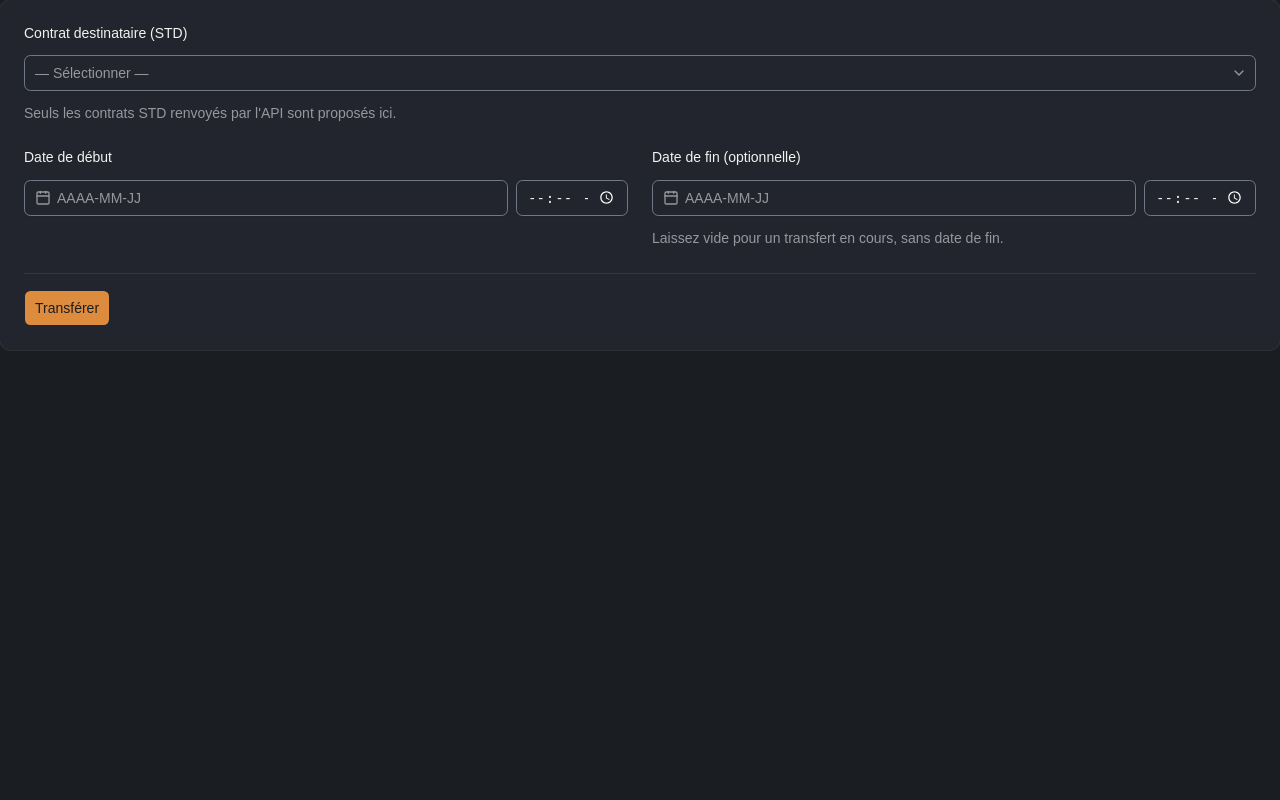
Test: TransferForm (KAN-169 FR14-FR17) › treats an omitted end date as open-ended and submits the transfer (FR15, FR17)
The image size is (1280, 800).
Expected: the form with test id "transfer-form" is shown, [24,24,1256,326]
Click the dropdown with test id "transfer-field-target" at (92, 73), box [24,55,1256,91]
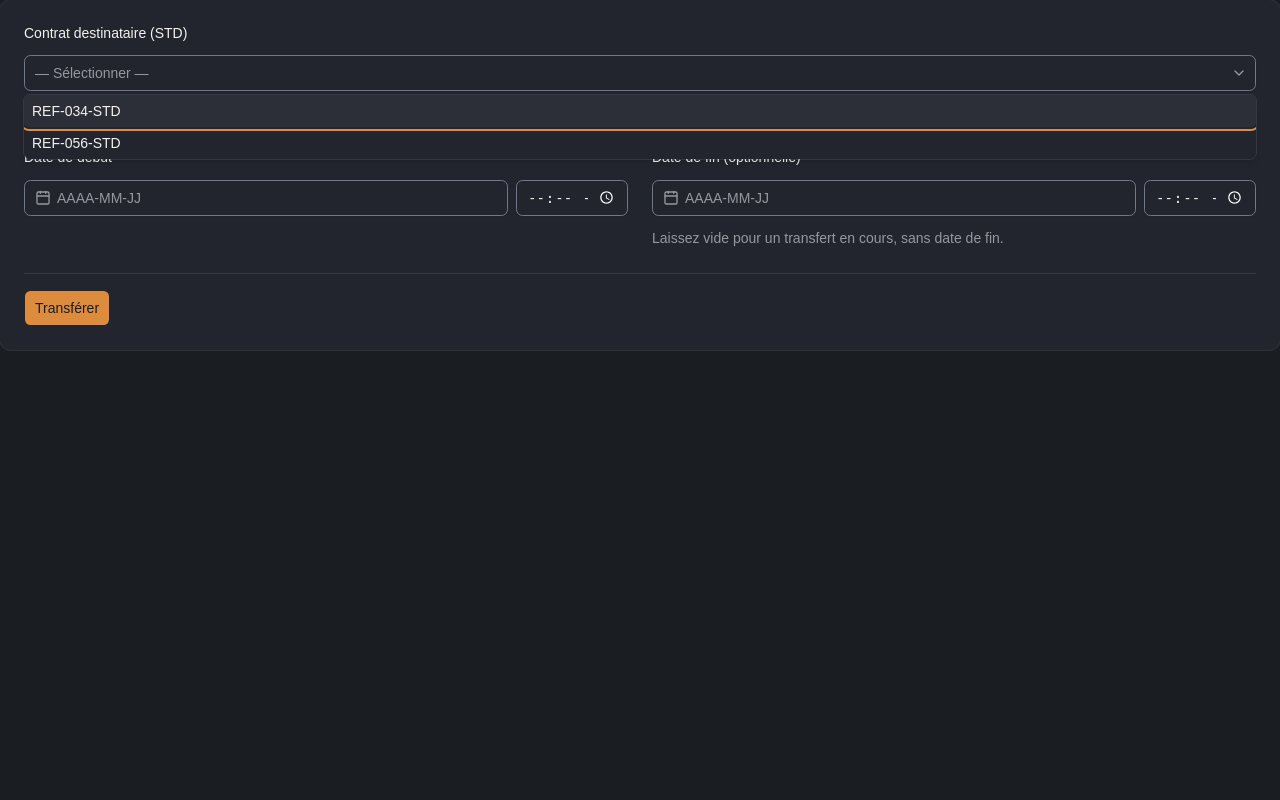
Click the option with test id "transfer-target-option-34" at (76, 111), box [24,95,1256,127]
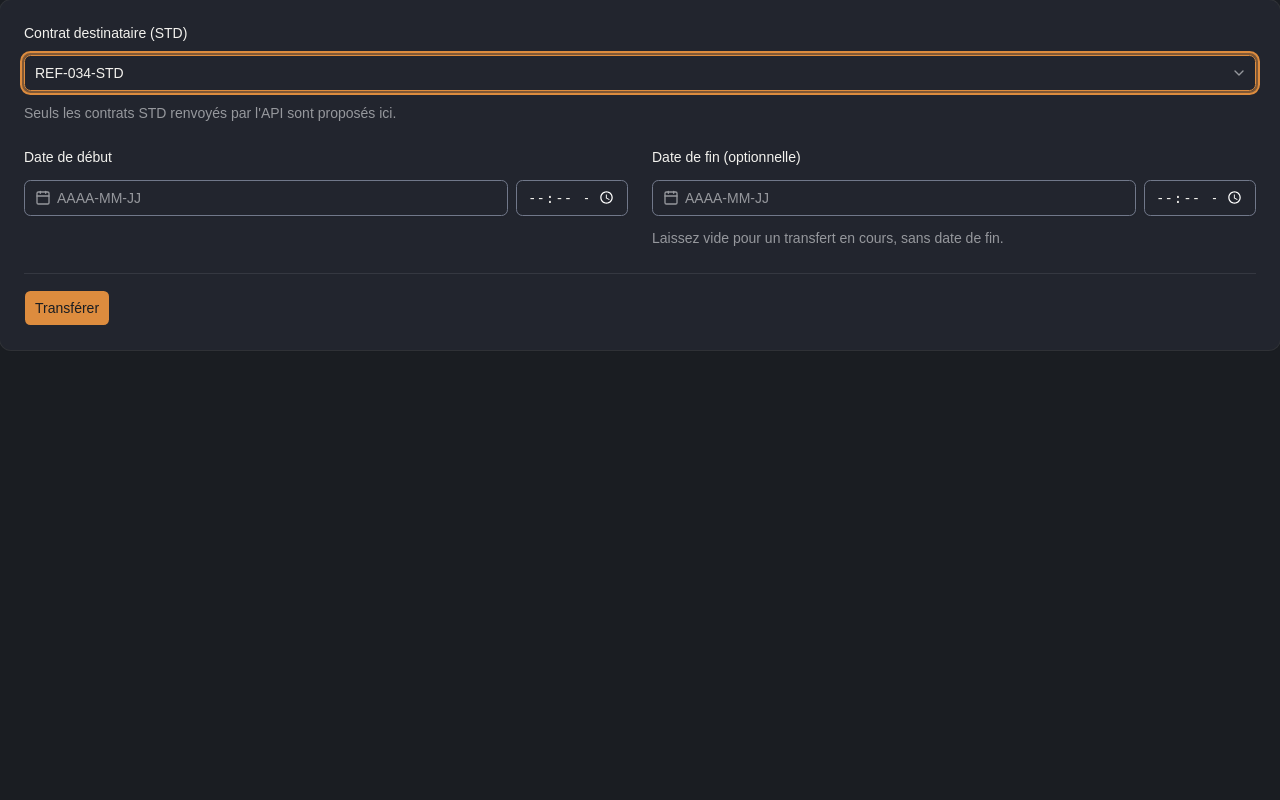
Click the button "AAAA-MM-JJ" below "Date de début" at (99, 198), box [24,180,508,216]
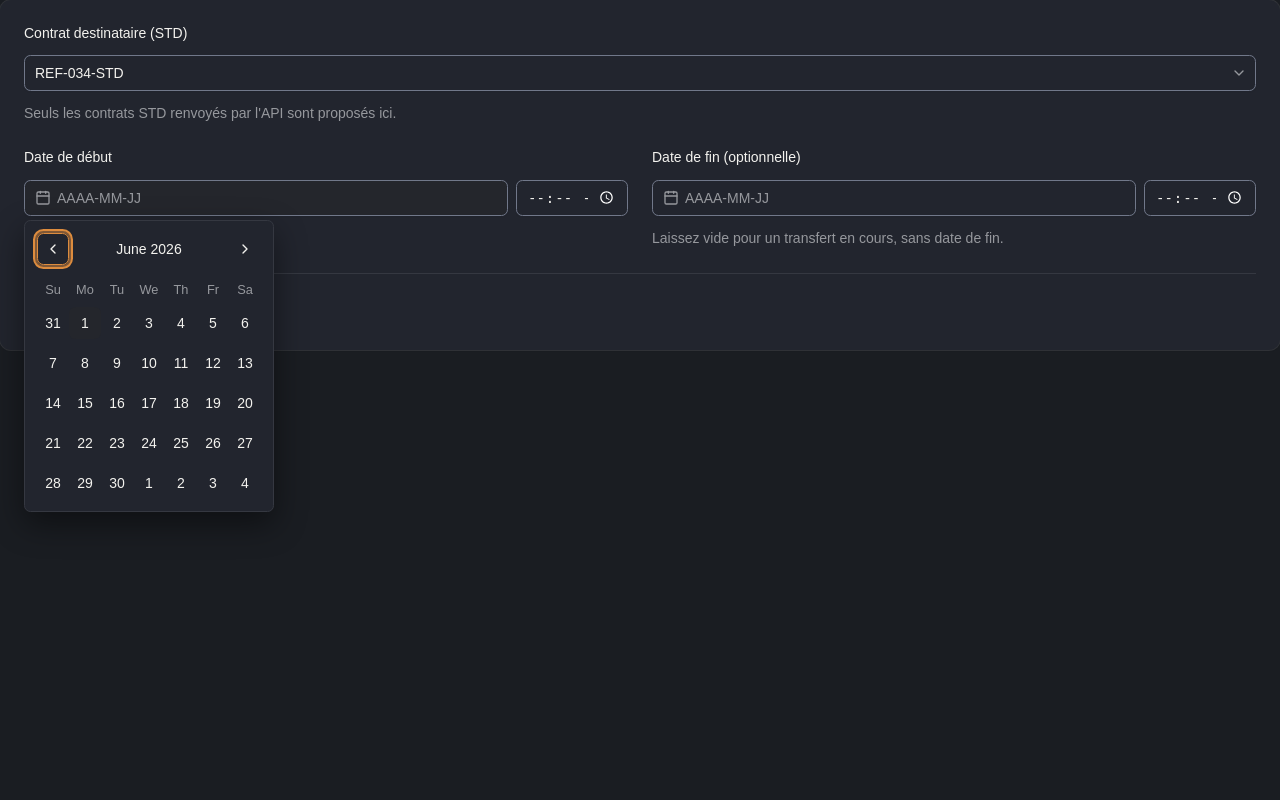
Click the button "10" at (149, 363), box [133,347,165,379]
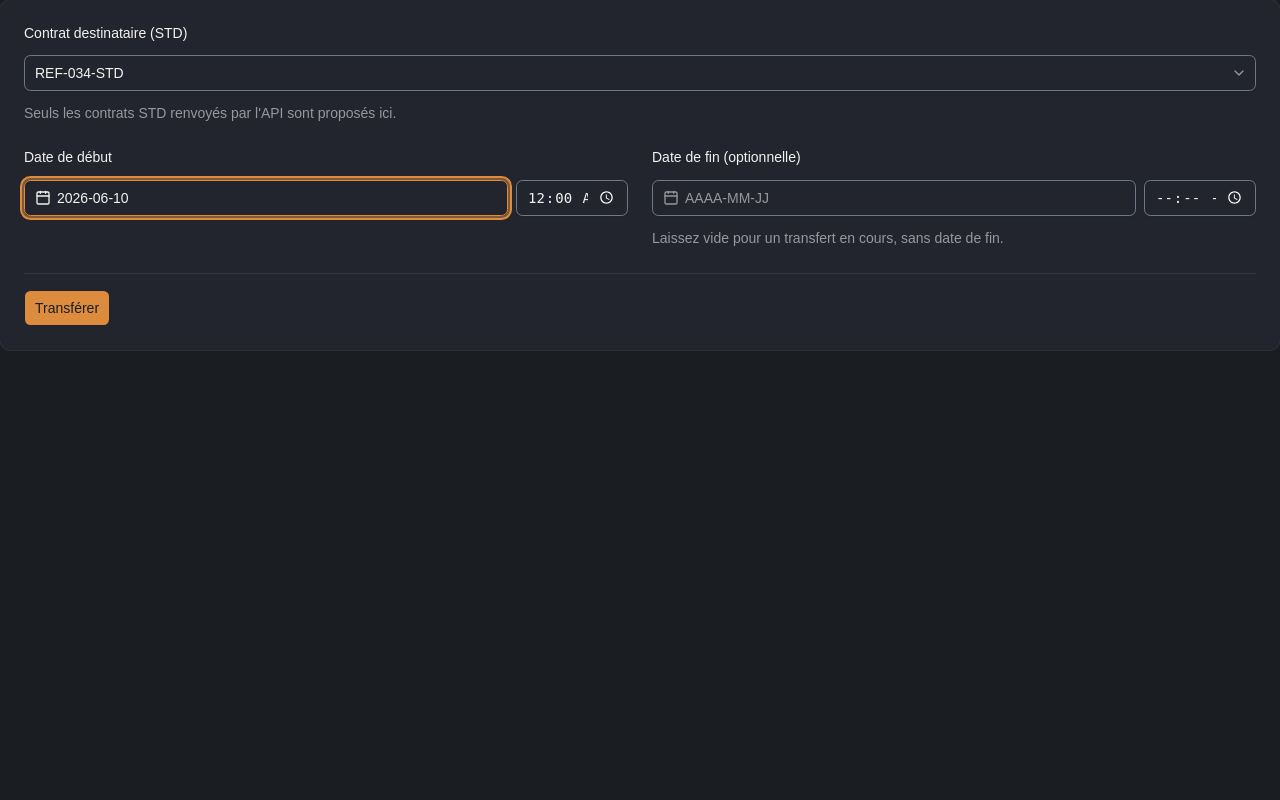
Click the button with test id "transfer-form-submit" at (67, 308), box [24,290,110,326]
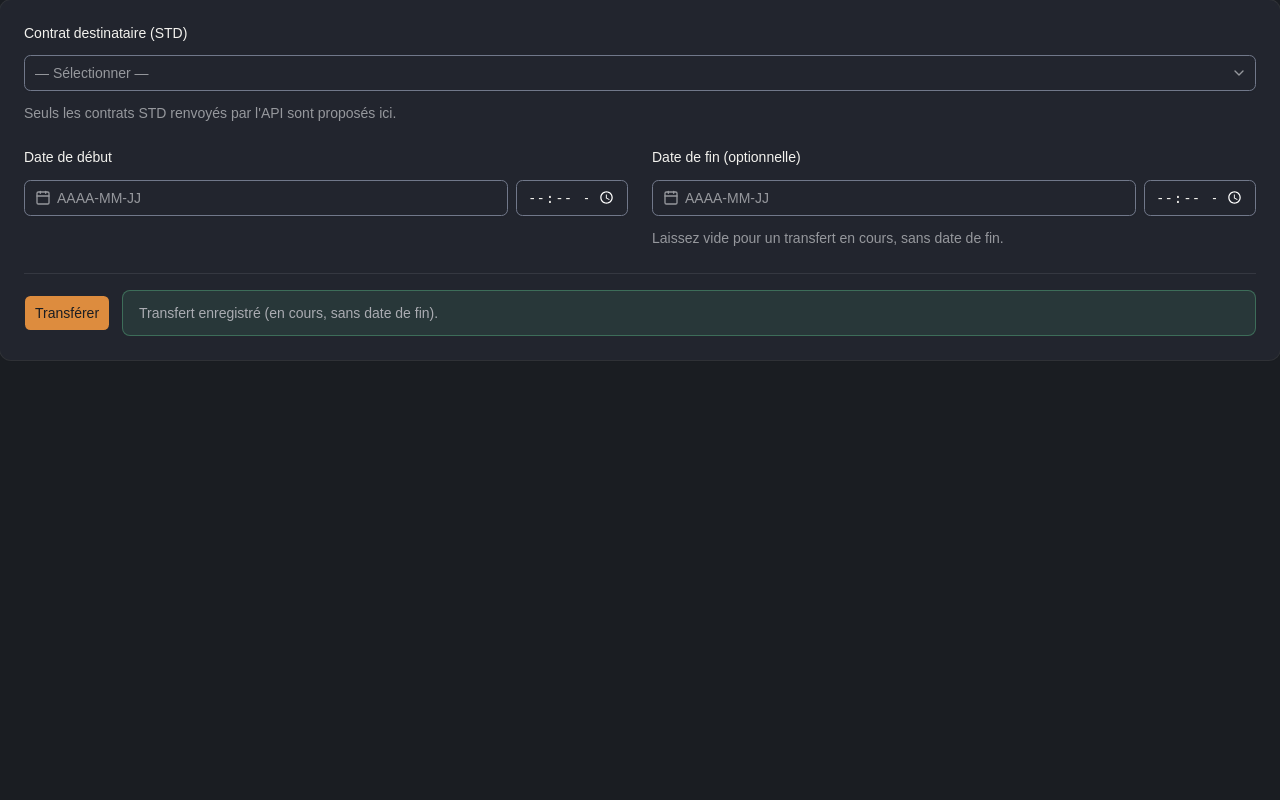
Expected: the message with test id "transfer-flash-ok" shows "en cours", [139,304,438,320]
